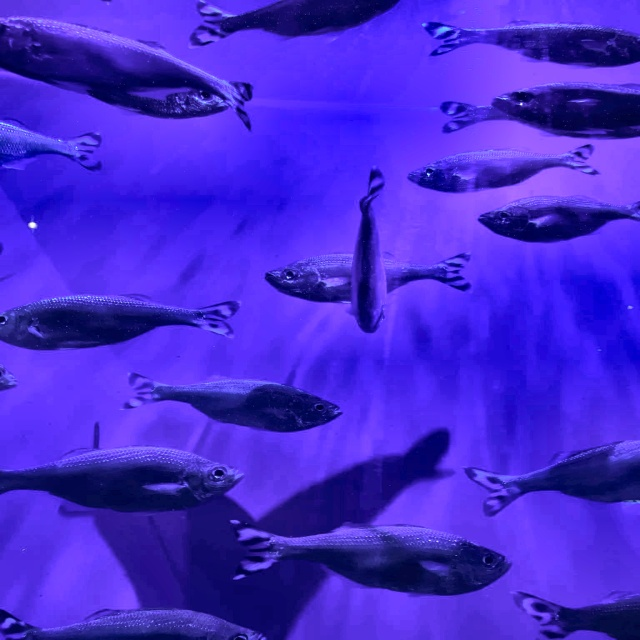fish: (0, 11, 245, 120), (242, 518, 505, 590), (2, 437, 249, 511), (0, 285, 262, 352), (435, 79, 639, 149), (467, 433, 639, 512), (131, 368, 340, 433), (215, 0, 432, 57), (260, 247, 484, 301), (437, 15, 639, 73), (401, 140, 601, 193), (482, 190, 639, 250), (0, 605, 271, 639), (0, 111, 132, 176), (347, 170, 394, 333), (518, 590, 639, 639)
